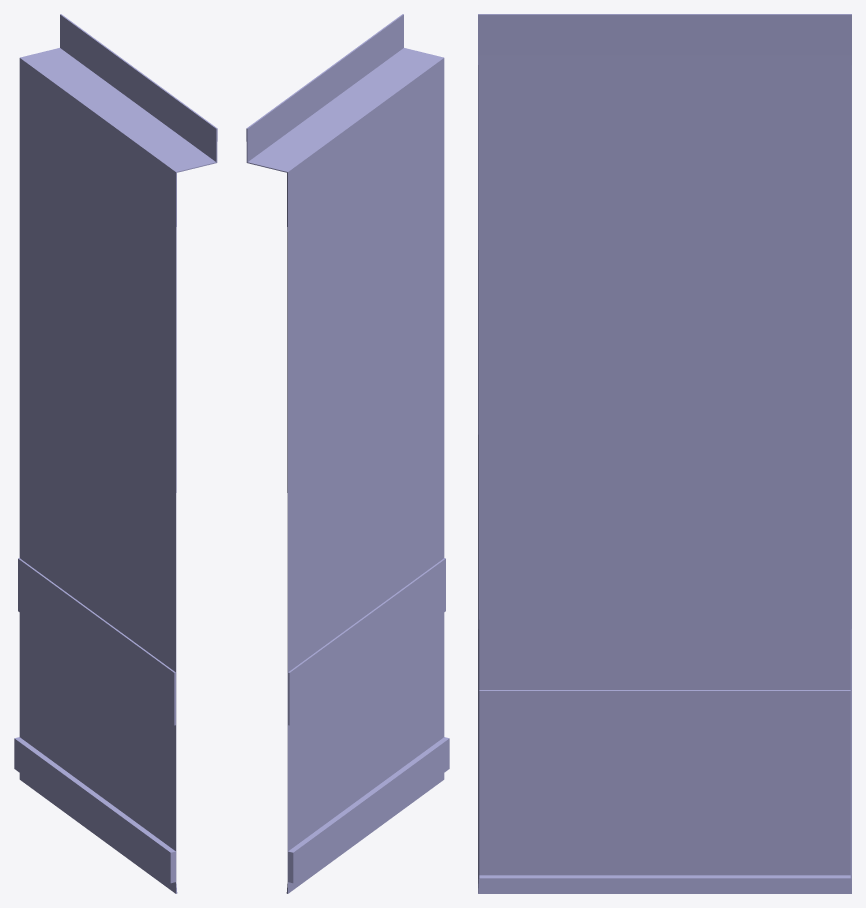
Rendered from Wand_Innen_1_Wand_Innen_1_001.fbx.
The picture shows the model from 3 angles, left to right: view 1: azimuth 30°, elevation 25°; view 2: azimuth 150°, elevation 25°; view 3: azimuth 270°, elevation 25°; orthographic projection. The views are drawn at different scales.
Parts seen in each view (by area): view 1: Wand Innen 1; view 2: Wand Innen 1; view 3: Wand Innen 1.
Boxes of the visible parts, x1,y1,x2,y2 form: Wand Innen 1: [14, 14, 217, 893]; Wand Innen 1: [246, 14, 449, 893]; Wand Innen 1: [478, 14, 851, 893].
Size of the model in its own units: 34.68 by 533 by 200.
